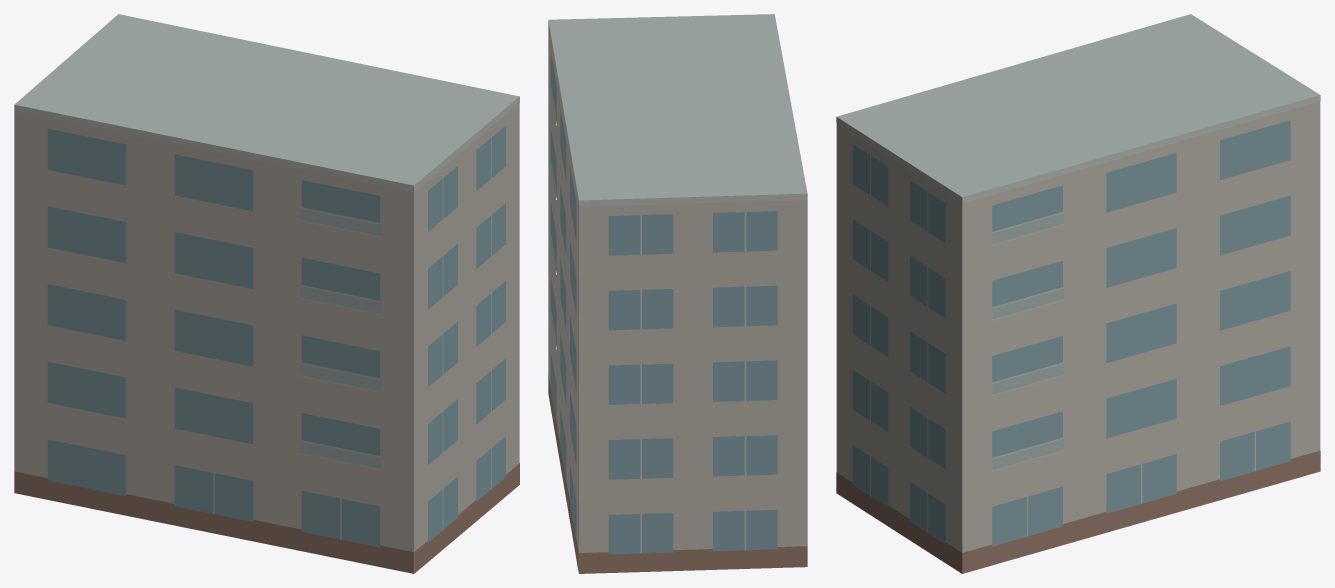
Rendered from survey-upis-32885089.glb.
3 views of the same model, side by side, from view 1: azimuth 30°, elevation 25°; view 2: azimuth 150°, elevation 25°; view 3: azimuth 270°, elevation 25° (orthographic). The views are drawn at different scales.
Parts seen in each view (by area): view 1: survey-upis-32885089.tmp; view 2: survey-upis-32885089.tmp; view 3: survey-upis-32885089.tmp.
Part boxes in pixels (bbox=[...]): survey-upis-32885089.tmp: bbox=[14, 14, 519, 573]; survey-upis-32885089.tmp: bbox=[548, 14, 807, 573]; survey-upis-32885089.tmp: bbox=[836, 14, 1320, 573].
Bounding box in the file's own units: 15.05 × 14.4 × 16.78.
